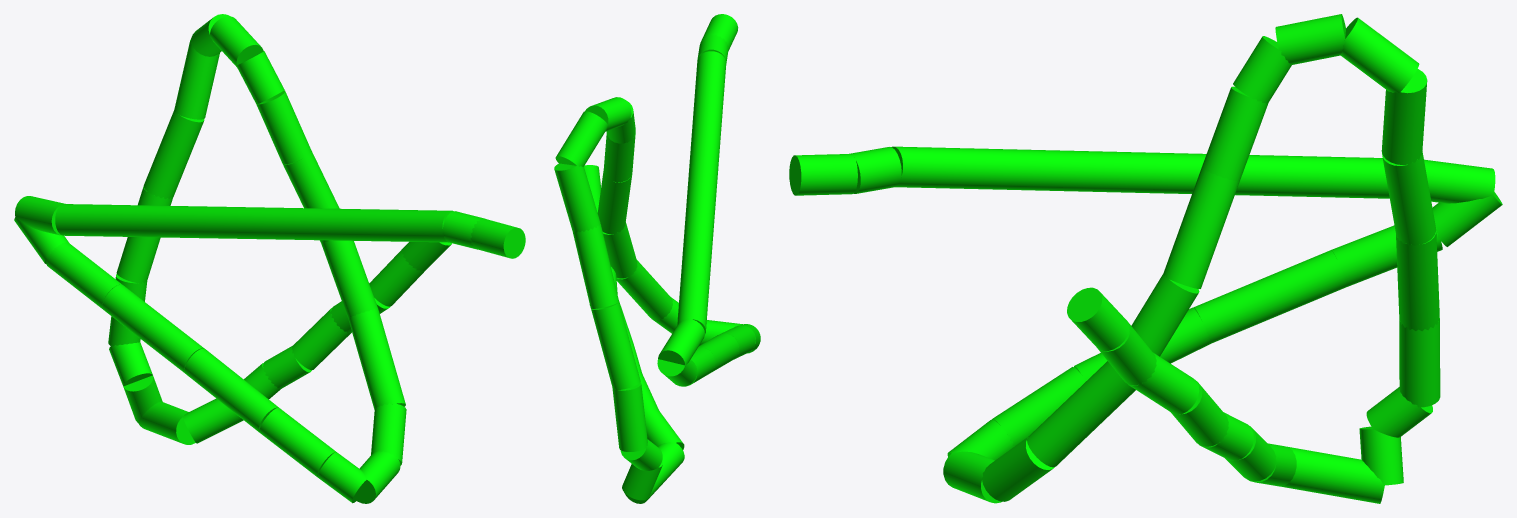
3 renders of one model, left to right at view 1: azimuth 30°, elevation 25°; view 2: azimuth 150°, elevation 25°; view 3: azimuth 270°, elevation 25°, orthographic. The views are drawn at different scales.
Visible parts, largest first — view 1: Cylinder(Clone) (×32); view 2: Cylinder(Clone) (×27); view 3: Cylinder(Clone) (×33).
Part boxes in pixels (<box>): Cylinder(Clone) (×32): <box>14,14,525,503</box>; Cylinder(Clone) (×27): <box>554,14,755,503</box>; Cylinder(Clone) (×33): <box>789,14,1502,503</box>.
Size of the model in its own units: 0.1013 by 0.1415 by 0.175.
